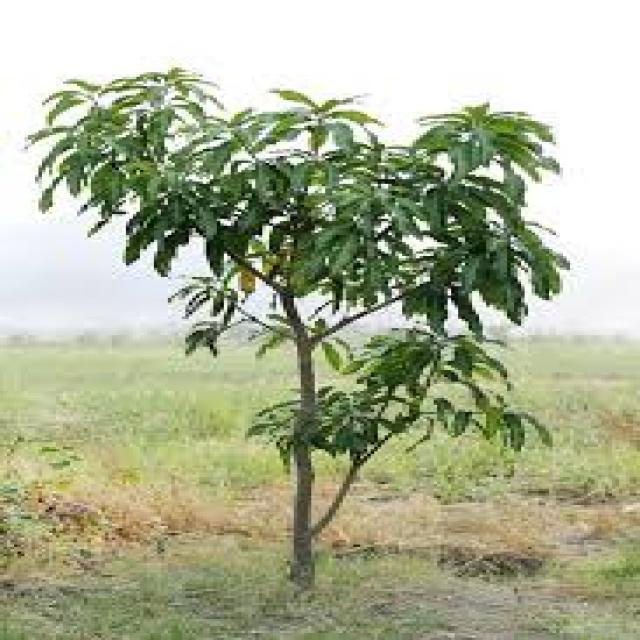Tree: (45, 35, 489, 612)
